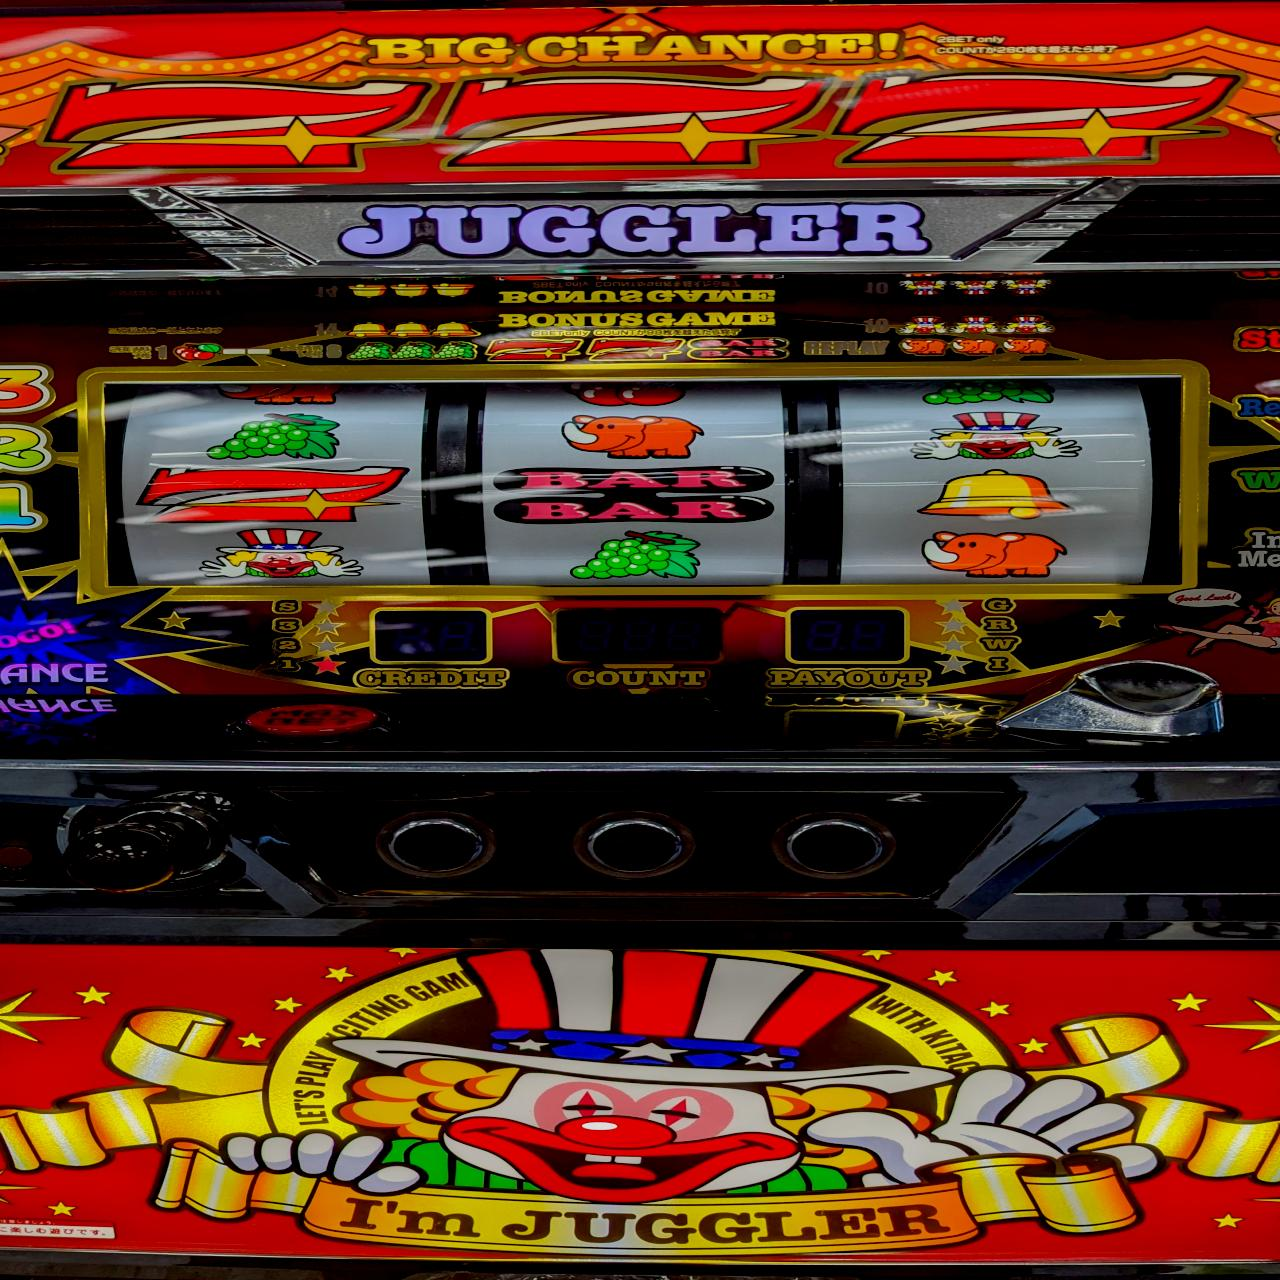7: (139, 467, 414, 522)
Display: (94, 376, 1192, 591)
bar: (490, 465, 776, 525)
bell: (918, 468, 1073, 519)
clown: (908, 411, 1083, 462), (198, 531, 369, 579)
grape: (566, 529, 706, 584), (204, 414, 347, 462)
rhino: (915, 529, 1068, 577), (557, 414, 712, 459)
